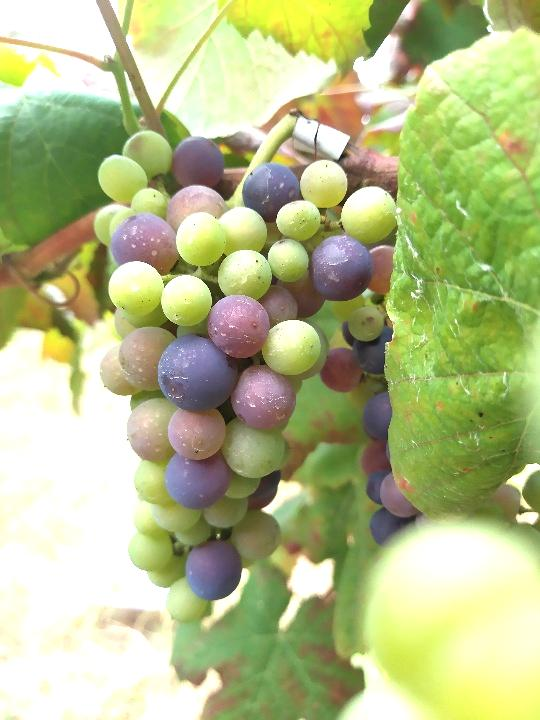grape: (90, 128, 408, 626)
